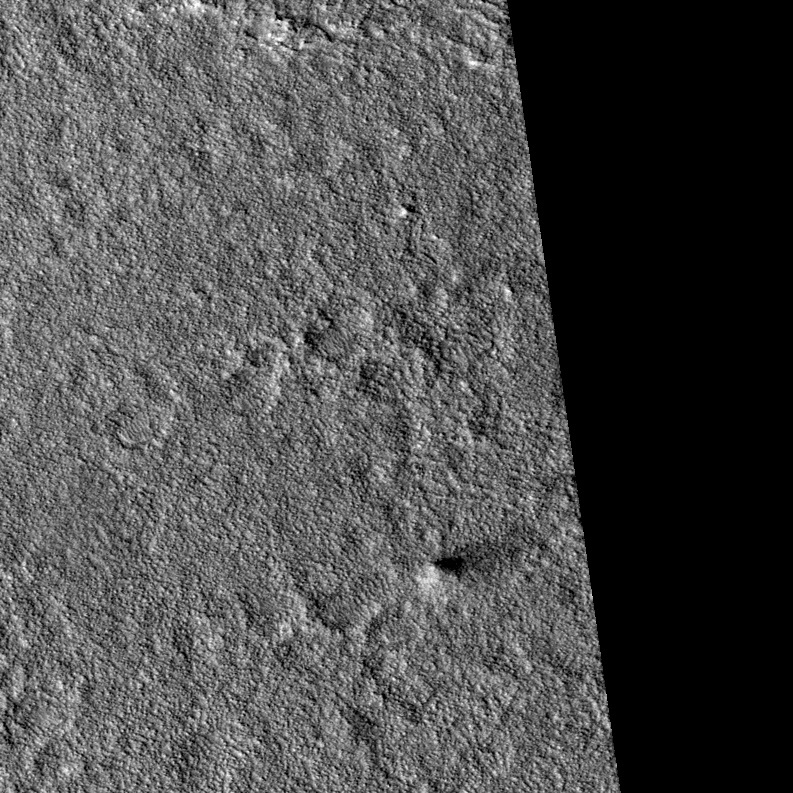dust_devil: (410, 534, 524, 596)
